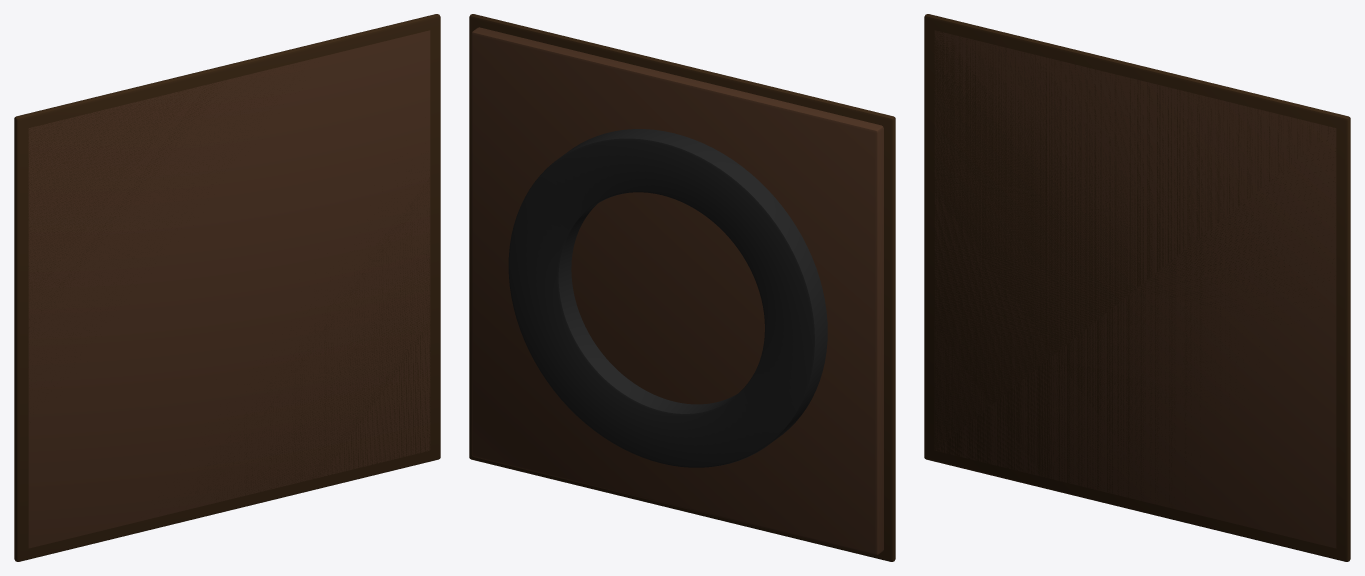
Rendered from BoardBackboard.fbx.
3 renders of one model, left to right at view 1: azimuth 30°, elevation 25°; view 2: azimuth 150°, elevation 25°; view 3: azimuth 330°, elevation 25°, orthographic.
Visible parts, largest first — view 1: BoardBackboard; view 2: BoardBackboard; view 3: BoardBackboard.
Boxes of the visible parts, <box> form: BoardBackboard: <box>14,14,440,561</box>; BoardBackboard: <box>469,14,895,561</box>; BoardBackboard: <box>924,14,1350,561</box>.
Bounding box in the file's own units: 0.94 × 0.94 × 0.088.
